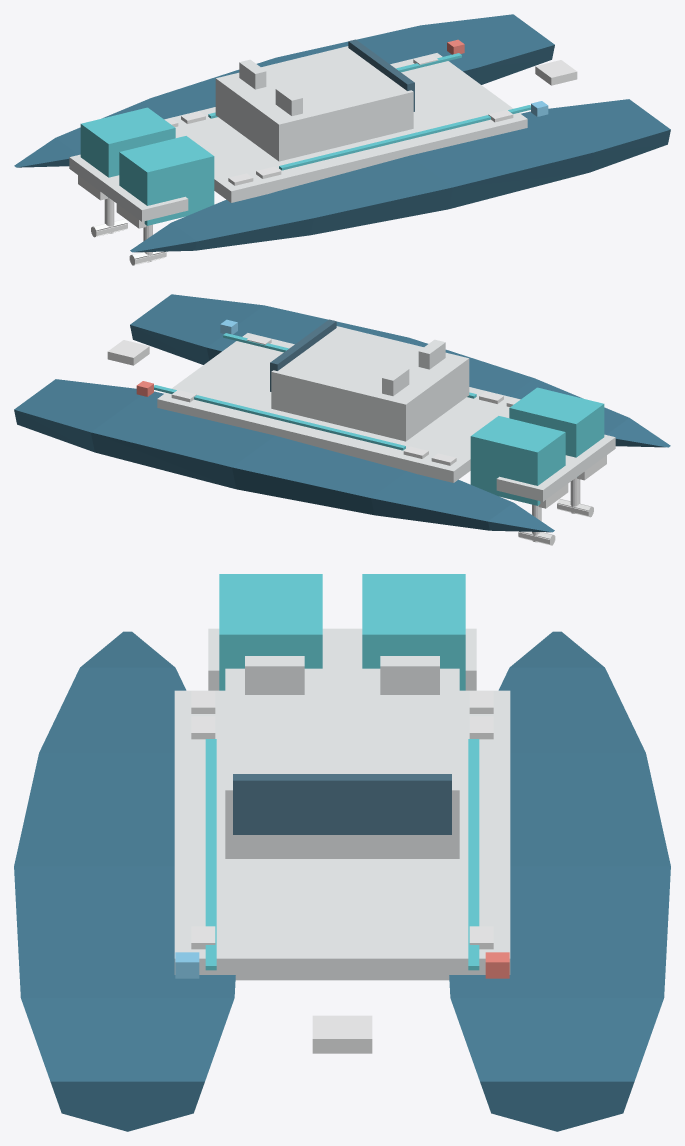
The model's file is bluefin_catamaran.glb.
The picture shows the model from 3 angles, top to bottom: view 1: azimuth 30°, elevation 25°; view 2: azimuth 150°, elevation 25°; view 3: azimuth 270°, elevation 25°; orthographic projection. The views are drawn at different scales.
Parts seen in each view (by area): view 1: 01_Twin_catamaran_sponson, 04_Sculpted_cockpit_pod, 03_Upper_deck, 00_Twin_catamaran_sponson, 25_High_performance_engine_cowl, 19_High_performance_engine_cowl, 34_Stern_swim_platform, 12_Racing_pinstripe, 05_Tinted_panoramic_windshield, 31_Bow_cleat, 09_Seat_back, 07_Seat_back; view 2: 00_Twin_catamaran_sponson, 04_Sculpted_cockpit_pod, 03_Upper_deck, 01_Twin_catamaran_sponson, 19_High_performance_engine_cowl, 25_High_performance_engine_cowl, 34_Stern_swim_platform, 11_Racing_pinstripe, 05_Tinted_panoramic_windshield, 31_Bow_cleat, 07_Seat_back, 09_Seat_back; view 3: 00_Twin_catamaran_sponson, 01_Twin_catamaran_sponson, 03_Upper_deck, 04_Sculpted_cockpit_pod, 05_Tinted_panoramic_windshield, 19_High_performance_engine_cowl, 25_High_performance_engine_cowl, 34_Stern_swim_platform, 11_Racing_pinstripe, 12_Racing_pinstripe, 31_Bow_cleat, 07_Seat_back (+1 smaller).
Part boxes in pixels (box(x1,y1,x2,y2)): 01_Twin_catamaran_sponson: box(130, 99, 670, 252); 04_Sculpted_cockpit_pod: box(215, 46, 413, 161); 03_Upper_deck: box(164, 53, 527, 202); 00_Twin_catamaran_sponson: box(14, 14, 554, 167); 25_High_performance_engine_cowl: box(119, 136, 214, 225); 19_High_performance_engine_cowl: box(80, 107, 175, 177); 34_Stern_swim_platform: box(69, 154, 188, 221); 12_Racing_pinstripe: box(279, 105, 530, 170); 05_Tinted_panoramic_windshield: box(348, 39, 414, 111); 31_Bow_cleat: box(535, 60, 577, 85); 09_Seat_back: box(275, 86, 302, 115); 07_Seat_back: box(239, 59, 266, 89); 00_Twin_catamaran_sponson: box(14, 379, 554, 532); 04_Sculpted_cockpit_pod: box(271, 326, 469, 441); 03_Upper_deck: box(157, 333, 520, 482); 01_Twin_catamaran_sponson: box(130, 294, 670, 447); 19_High_performance_engine_cowl: box(470, 416, 565, 505); 25_High_performance_engine_cowl: box(509, 387, 604, 457); 34_Stern_swim_platform: box(496, 434, 615, 501); 11_Racing_pinstripe: box(154, 385, 405, 450); 05_Tinted_panoramic_windshield: box(270, 319, 336, 391); 31_Bow_cleat: box(107, 340, 149, 365); 07_Seat_back: box(382, 366, 409, 395); 09_Seat_back: box(418, 339, 445, 369); 00_Twin_catamaran_sponson: box(449, 631, 670, 1131); 01_Twin_catamaran_sponson: box(14, 631, 235, 1131); 03_Upper_deck: box(174, 690, 510, 980); 04_Sculpted_cockpit_pod: box(225, 668, 459, 858); 05_Tinted_panoramic_windshield: box(233, 774, 451, 834); 19_High_performance_engine_cowl: box(362, 574, 465, 690); 25_High_performance_engine_cowl: box(219, 574, 322, 690); 34_Stern_swim_platform: box(208, 628, 476, 690); 11_Racing_pinstripe: box(468, 739, 479, 970); 12_Racing_pinstripe: box(205, 739, 216, 970); 31_Bow_cleat: box(312, 1015, 372, 1053); 07_Seat_back: box(380, 656, 439, 694).
Bounding box in the file's own units: 5.59 × 1.36 × 3.3.
